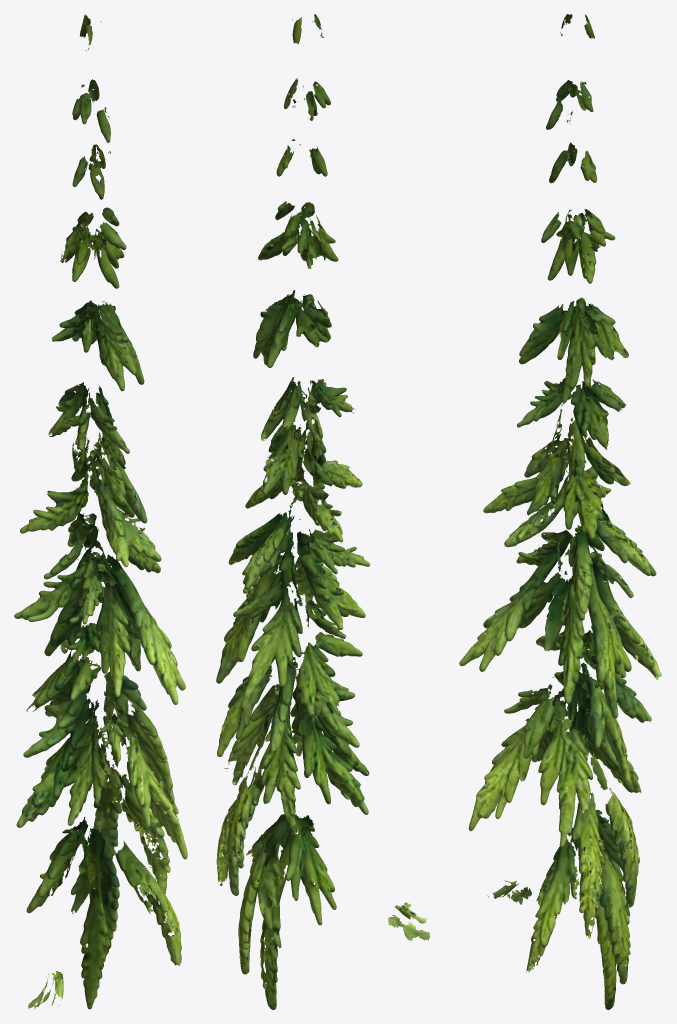
File: rodfx-cedar-boughs.glb
The picture shows the model from 3 angles, left to right: view 1: azimuth 30°, elevation 25°; view 2: azimuth 150°, elevation 25°; view 3: azimuth 270°, elevation 25°; orthographic projection. The views are drawn at different scales.
Visible parts, largest first — view 1: Boughs; view 2: Boughs; view 3: Boughs.
Boxes of the visible parts, x1,y1,x2,y2 form: Boughs: (14,14,187,1009); Boughs: (216,14,430,1009); Boughs: (459,14,661,1009).
Bounding box in the file's own units: 0.1344 × 0.7244 × 0.1351.
1 material, 1 textured.
